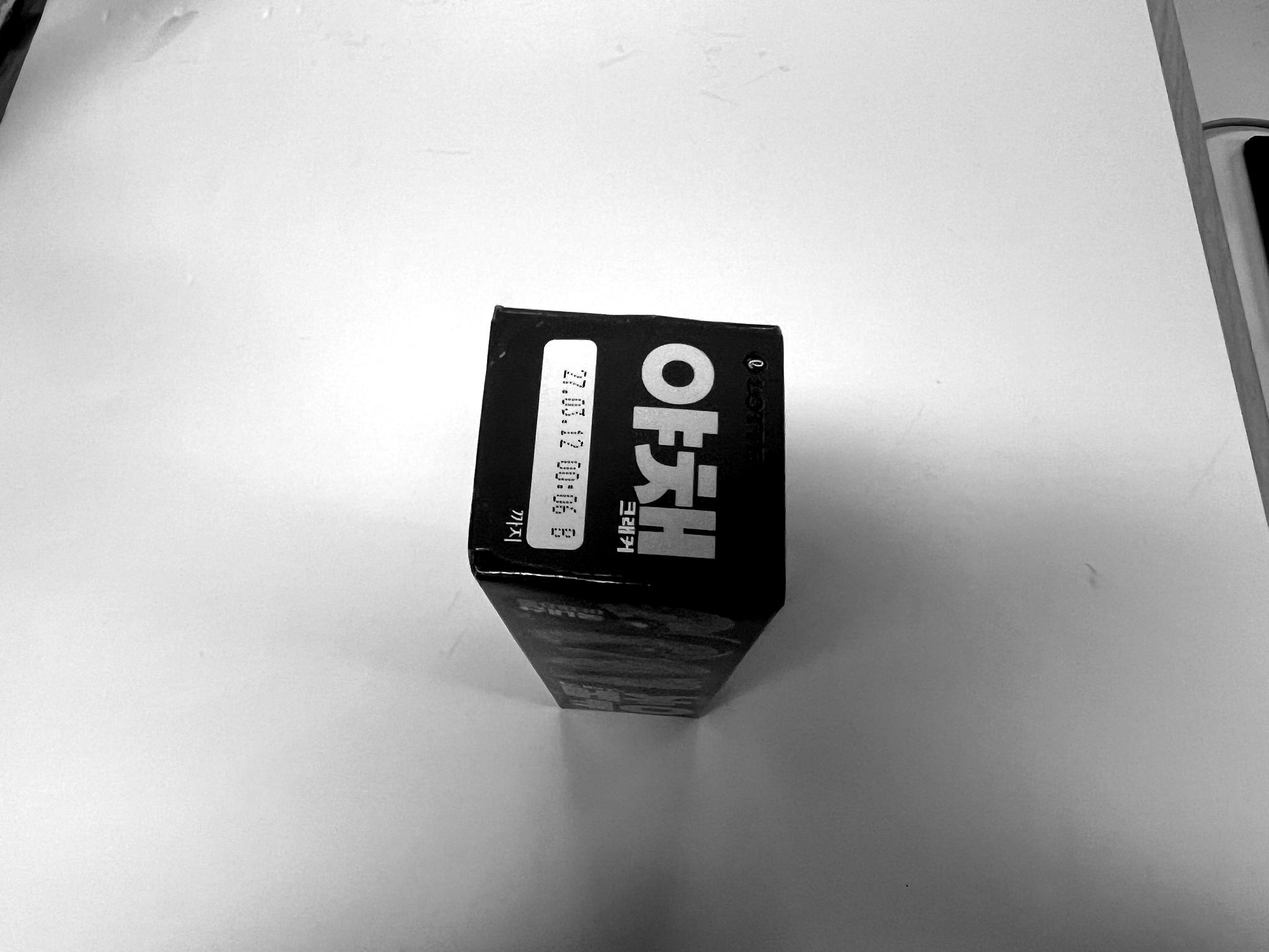cracker_vege: (469, 307, 785, 723)
